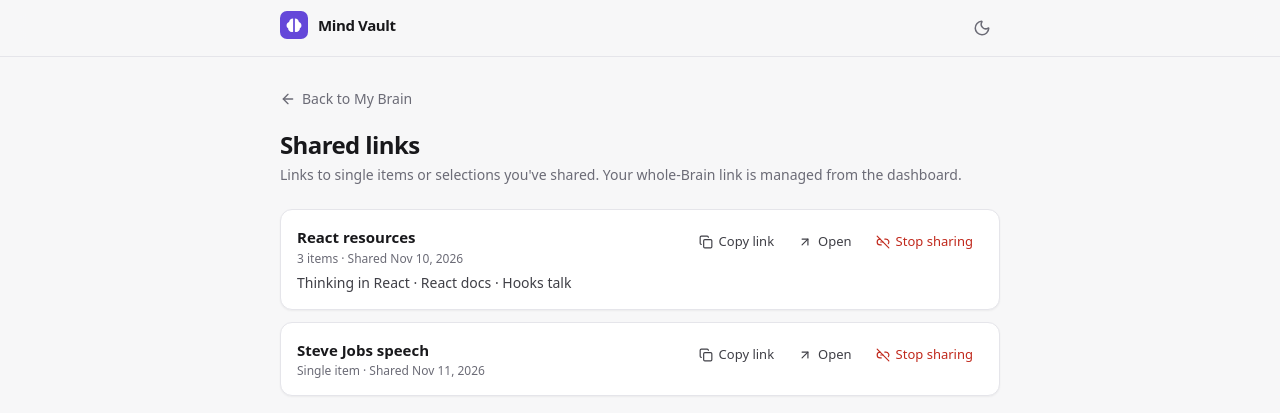
Test: Shared links page › copies a link
The image size is (1280, 413).
Step 1. Click the button "Copy link" in the row of "· Shared Nov 10, 2026" → (736, 242), box x1=689 y1=226 x2=784 y2=258
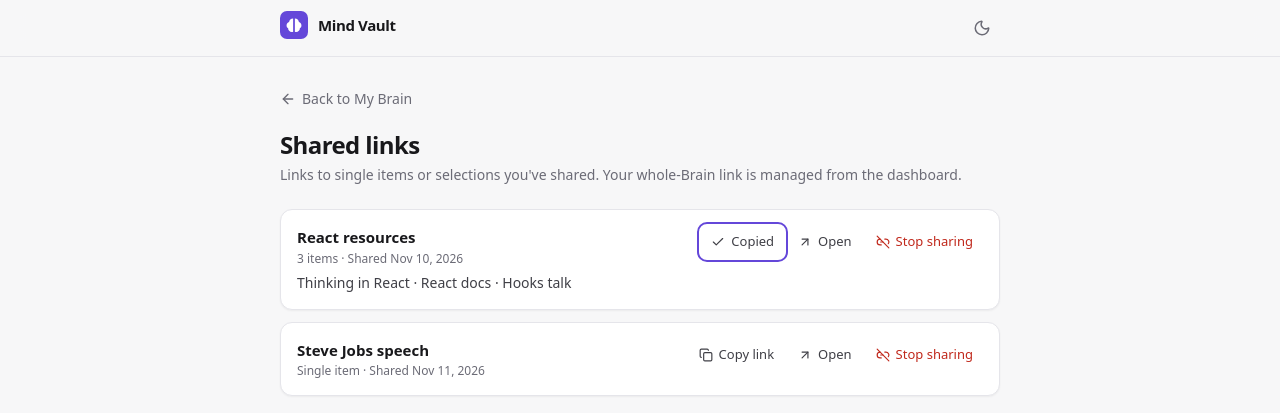
Result: the button "Copied" is shown at x1=701 y1=226 x2=784 y2=258
